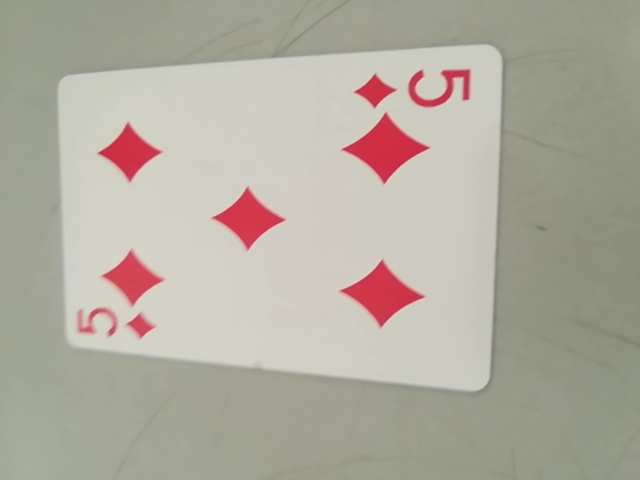fk 5: (353, 60, 474, 114), (69, 300, 159, 349)
